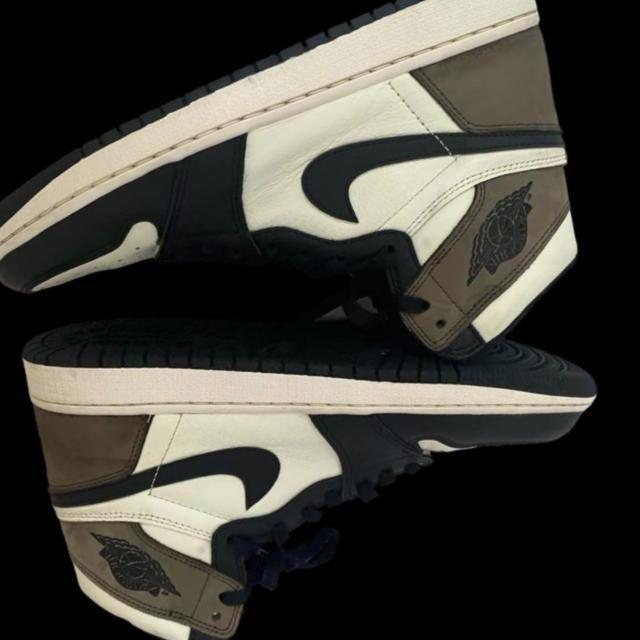nike original jordan 1: (0, 0, 640, 521), (0, 150, 640, 640)
